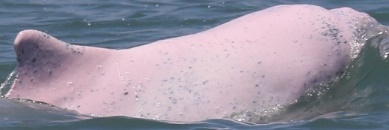fin: (7, 2, 382, 127)
